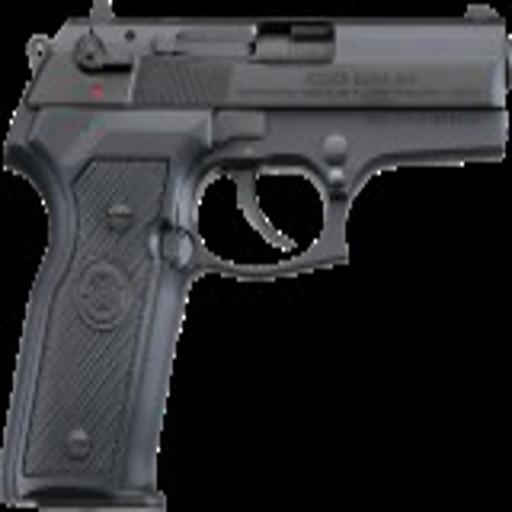Handgun: (2, 3, 507, 511)
